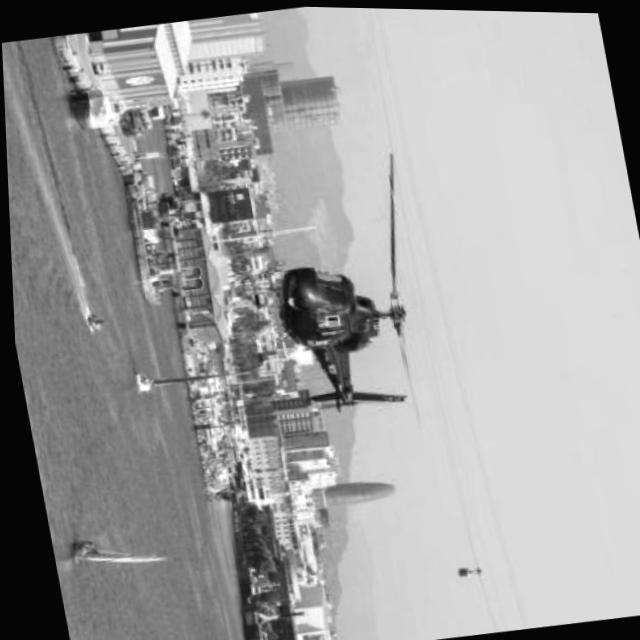helikopter: (244, 146, 451, 449)
